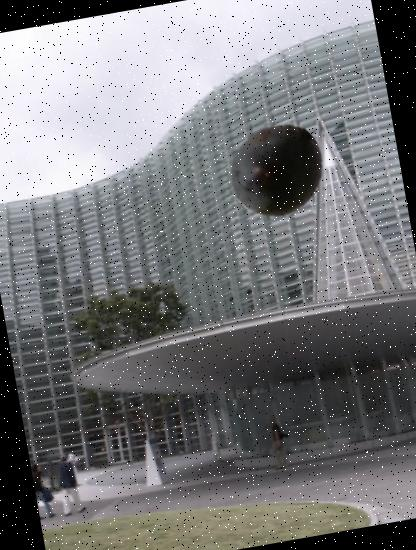Plum: (220, 112, 335, 228)
